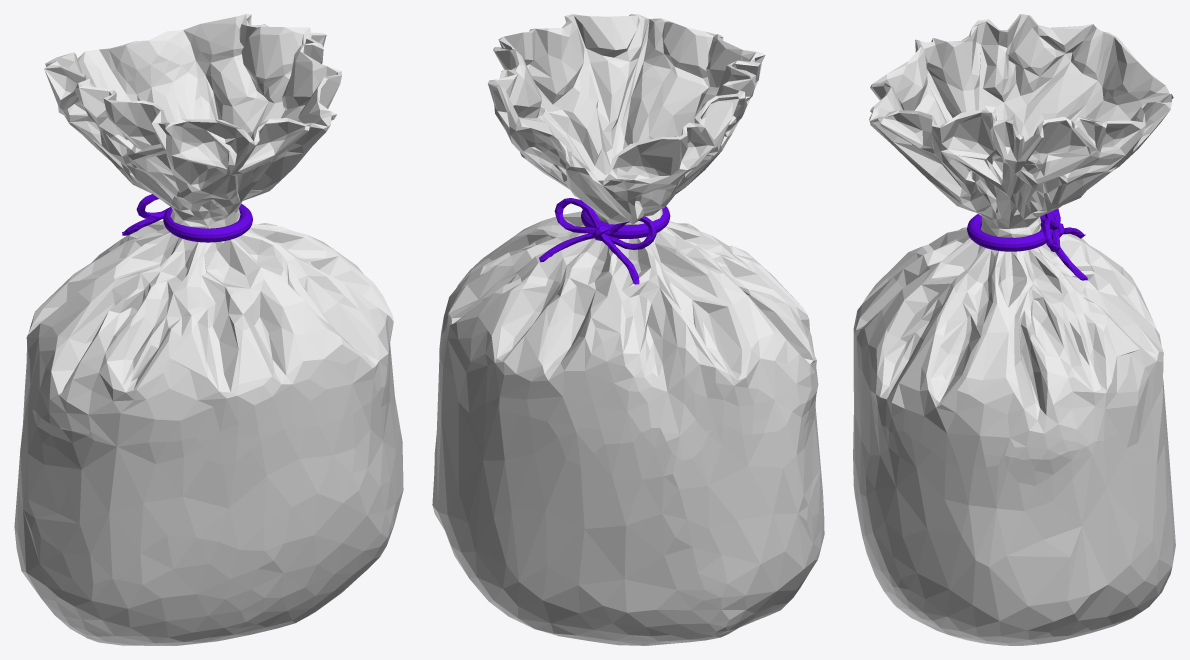
The model's file is Fish-Bag.fbx.
3 views of the same model, side by side, from view 1: azimuth 30°, elevation 25°; view 2: azimuth 150°, elevation 25°; view 3: azimuth 270°, elevation 25° (orthographic). The views are drawn at different scales.
Visible parts, largest first — view 1: ポリ袋, 紐1; view 2: ポリ袋, 紐1; view 3: ポリ袋, 紐1.
Part boxes in pixels (bbox=[...]): ポリ袋: bbox=[14, 14, 403, 645]; 紐1: bbox=[122, 194, 252, 242]; ポリ袋: bbox=[432, 14, 824, 645]; 紐1: bbox=[539, 198, 670, 284]; ポリ袋: bbox=[853, 14, 1175, 645]; 紐1: bbox=[967, 208, 1087, 280].
Bounding box in the file's own units: 0.2194 × 0.3233 × 0.1745.
